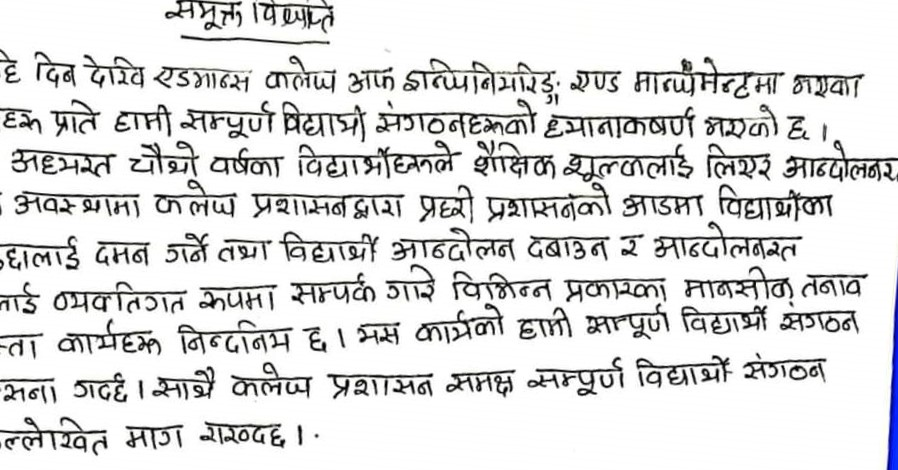text: (291, 138, 458, 180), (628, 56, 783, 101), (402, 53, 563, 96), (373, 98, 543, 138), (484, 180, 616, 226), (651, 223, 803, 262), (542, 104, 699, 141), (386, 223, 519, 264), (563, 142, 695, 183), (248, 189, 407, 223), (782, 138, 898, 183), (48, 279, 188, 316), (714, 180, 836, 221), (174, 316, 298, 355), (52, 318, 167, 359), (9, 185, 143, 220), (682, 264, 797, 302), (412, 302, 508, 346), (526, 355, 628, 396), (21, 412, 108, 460), (177, 98, 278, 139), (279, 226, 379, 266), (468, 138, 561, 181), (448, 266, 556, 302), (279, 99, 369, 141), (9, 145, 114, 181), (324, 369, 437, 402), (632, 353, 733, 389), (153, 178, 239, 220), (3, 230, 83, 275), (677, 301, 771, 339), (581, 304, 673, 342), (228, 361, 314, 401), (695, 103, 782, 142), (151, 61, 252, 94), (283, 271, 378, 306), (195, 418, 292, 452), (739, 351, 831, 386), (263, 54, 341, 94), (562, 274, 672, 301), (126, 138, 201, 176), (151, 362, 219, 403), (249, 1, 338, 32), (705, 141, 777, 179), (778, 308, 863, 340), (197, 281, 279, 314), (523, 233, 613, 263), (207, 146, 284, 181), (442, 364, 519, 399), (79, 50, 146, 89), (621, 189, 704, 220), (415, 182, 477, 223), (163, 1, 247, 31), (381, 264, 439, 305), (67, 369, 133, 405), (787, 69, 863, 100), (48, 96, 101, 140), (515, 304, 576, 341), (112, 102, 173, 138), (118, 421, 187, 452), (92, 234, 153, 269), (799, 270, 868, 300), (31, 48, 77, 88), (163, 228, 211, 266), (568, 65, 626, 96), (344, 64, 398, 95), (217, 234, 271, 264), (352, 320, 404, 350), (1, 103, 43, 134), (783, 110, 815, 143), (303, 324, 332, 356), (618, 229, 643, 260)
